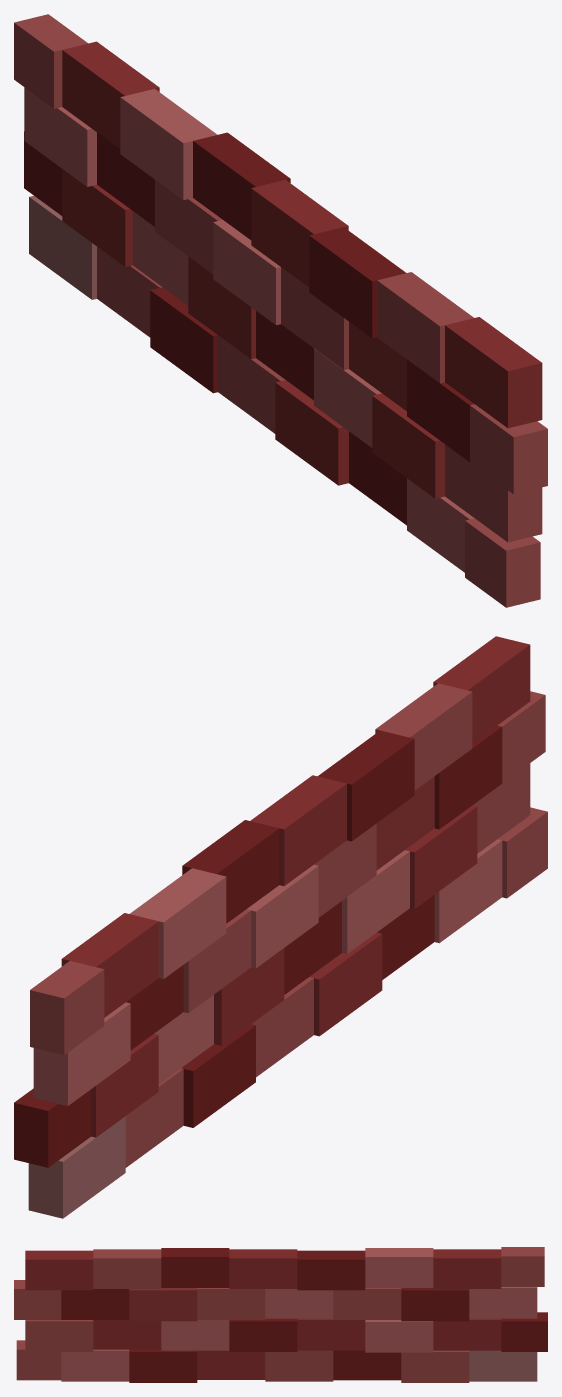
File: BrickWall.glb
The picture shows the model from 3 angles, top to bottom: view 1: azimuth 30°, elevation 25°; view 2: azimuth 150°, elevation 25°; view 3: azimuth 270°, elevation 25°; orthographic projection. The views are drawn at different scales.
Parts seen in each view (by area): view 1: wall.002; view 2: wall.002; view 3: wall.002.
Part boxes in pixels (x1,y1,x2,y2): wall.002: [14, 14, 547, 607]; wall.002: [14, 636, 547, 1218]; wall.002: [14, 1247, 547, 1382].
Bounding box in the file's own units: 0.8783 × 3.82 × 15.
